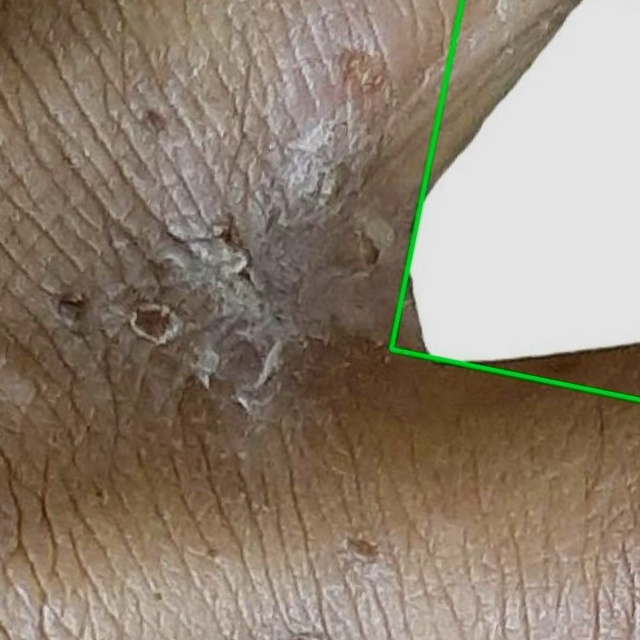Scabies: (391, 0, 639, 399)
